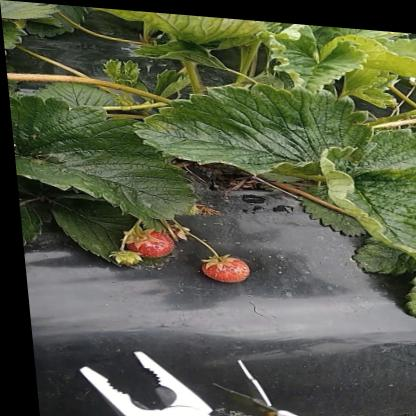ripe: (190, 250, 251, 283), (119, 227, 174, 259)
unripe: (109, 249, 136, 266)
